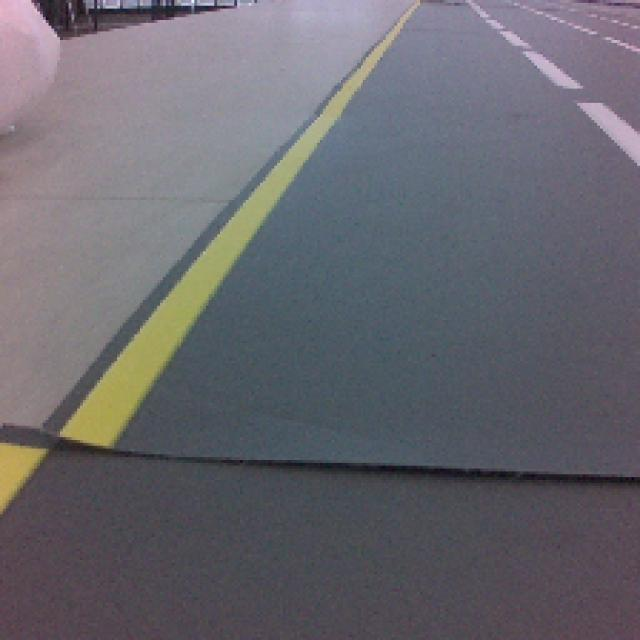Road: (0, 459, 640, 640)
